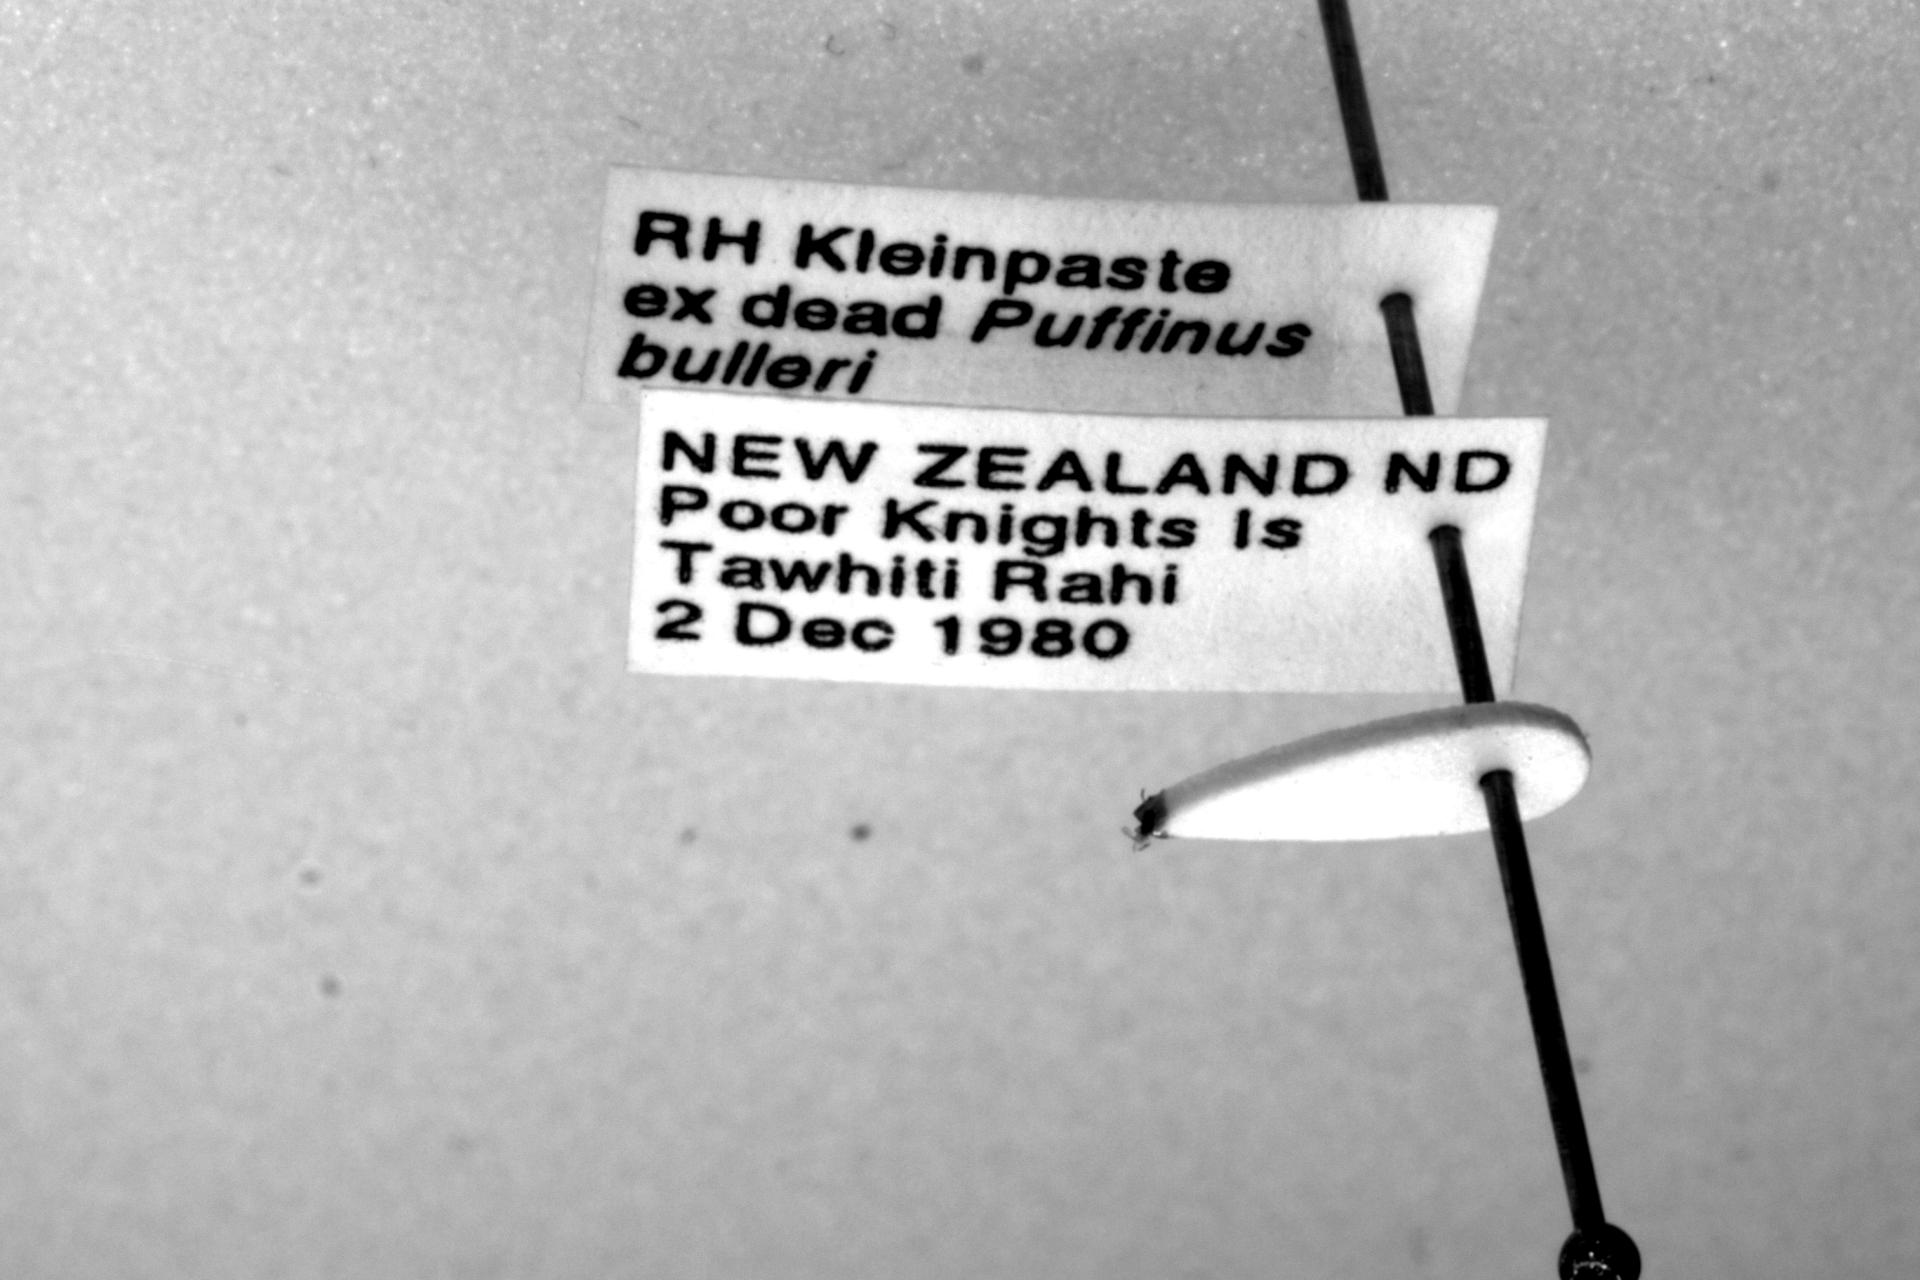typed_label: (630, 390, 1545, 694), (585, 165, 1496, 416)
